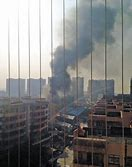smoke: (48, 1, 116, 96)
